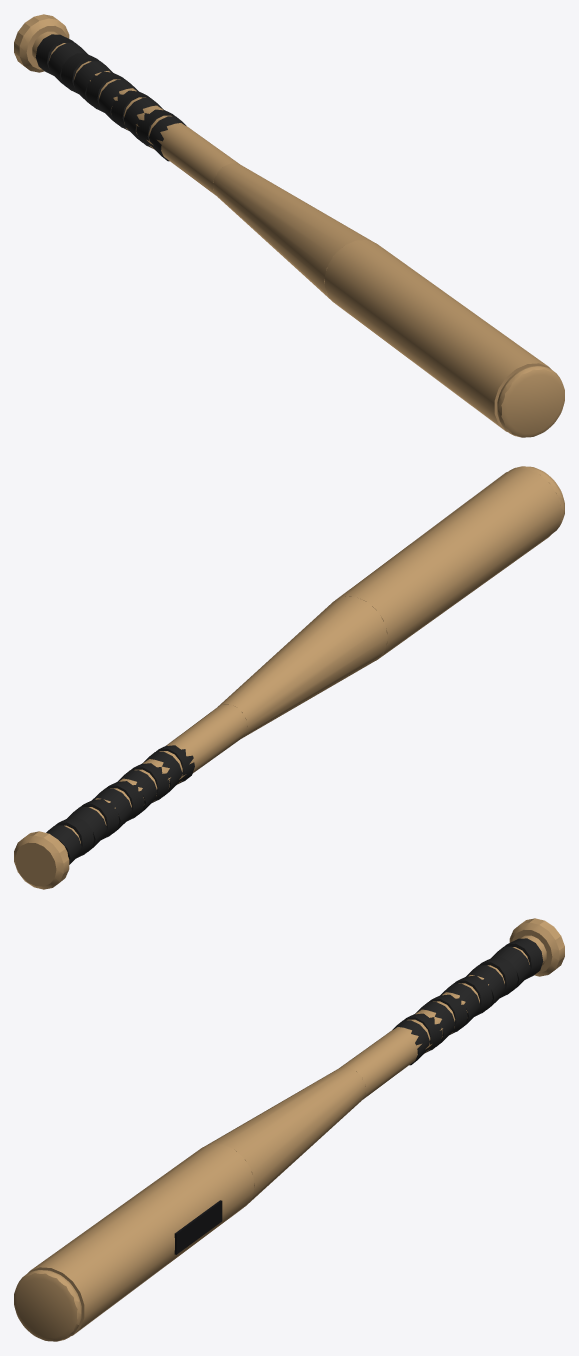
The model's file is weapon_bat.glb.
3 renders of one model, top to bottom at view 1: azimuth 30°, elevation 25°; view 2: azimuth 150°, elevation 25°; view 3: azimuth 330°, elevation 25°, orthographic.
Parts seen in each view (by area): view 1: Bat; view 2: Bat; view 3: Bat.
Boxes of the visible parts, bbox=[...] form: Bat: bbox=[14, 14, 564, 437]; Bat: bbox=[14, 466, 564, 889]; Bat: bbox=[14, 918, 564, 1341].
Size of the model in its own units: 0.0675 by 0.068 by 0.872.
